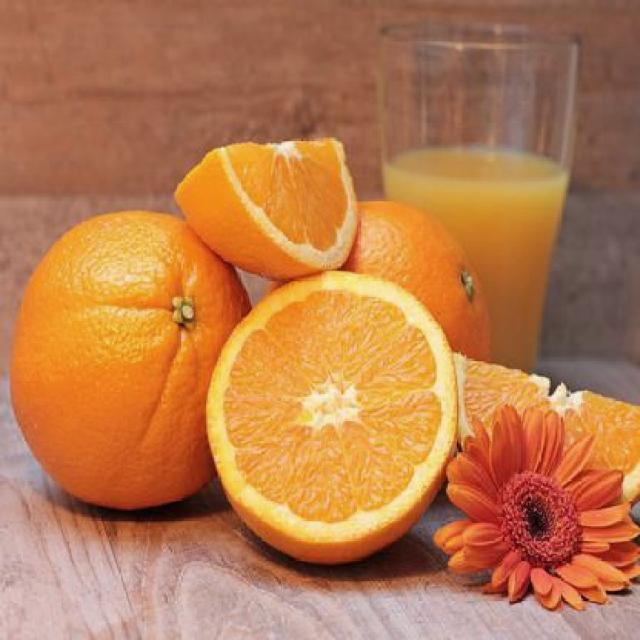Jeruk Sudah Matang: (12, 210, 255, 518), (266, 192, 496, 471)
